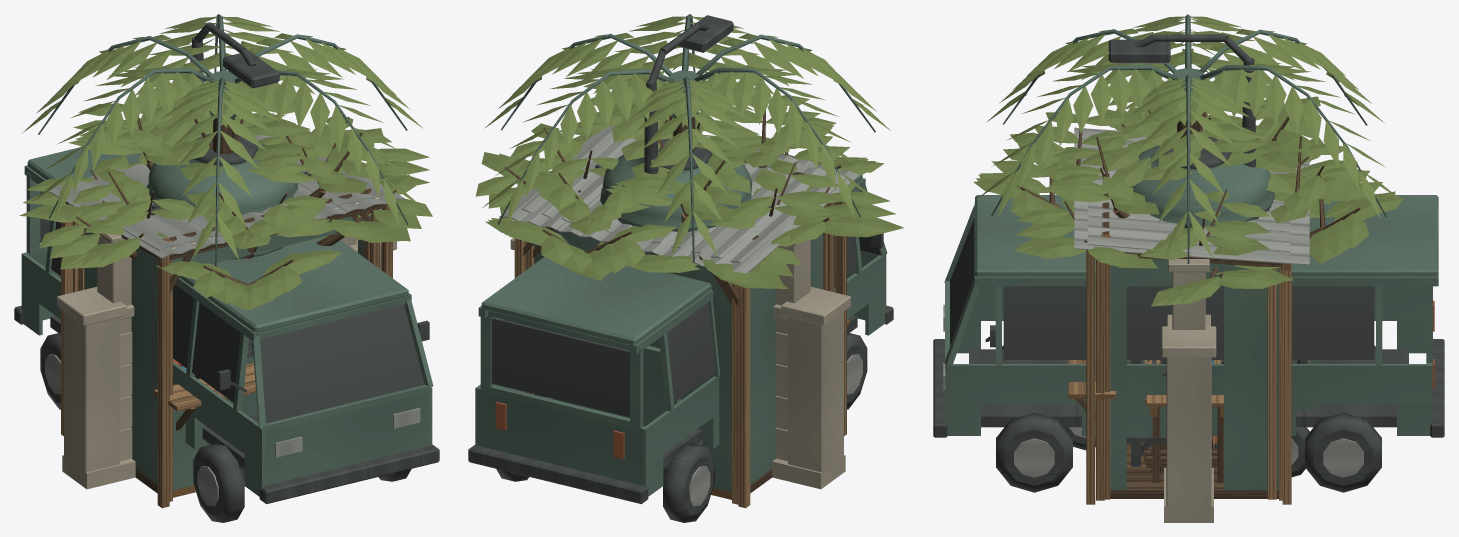
Rendered from yoruba-southwest.glb.
3 renders of one model, left to right at view 1: azimuth 30°, elevation 25°; view 2: azimuth 150°, elevation 25°; view 3: azimuth 270°, elevation 25°, orthographic.
Parts seen in each view (by area): view 1: minibus, palm, broadleaf-tree, acacia, kiosk, wall, canopy, water-tank, market-stall, gate, street-lamp; view 2: minibus, palm, broadleaf-tree, kiosk, acacia, wall, market-stall, canopy, water-tank, street-lamp, gate, three-wheeler; view 3: minibus, palm, kiosk, broadleaf-tree, acacia, market-stall, wall, water-tank, canopy, street-lamp, gate, three-wheeler.
Part boxes in pixels (x1,y1,x2,y2): minibus: (14,147,439,522); palm: (21,14,424,266); broadleaf-tree: (68,81,391,258); acacia: (19,108,432,309); kiosk: (49,135,405,501); wall: (57,239,396,489); canopy: (61,197,392,508); water-tank: (146,134,297,379); market-stall: (70,156,384,370); gate: (93,233,356,482); street-lamp: (190,22,279,115); minibus: (468,153,893,522); palm: (482,14,890,262); broadleaf-tree: (510,71,842,234); kiosk: (499,131,859,504); acacia: (475,109,903,288); wall: (510,238,850,489); market-stall: (521,126,846,290); canopy: (514,186,847,508); water-tank: (600,138,751,231); street-lamp: (644,15,733,174); gate: (772,240,810,482); three-wheeler: (558,335,703,445); minibus: (933,195,1444,492); palm: (976,14,1400,263); kiosk: (1068,127,1309,500); broadleaf-tree: (1010,85,1367,259); acacia: (973,107,1404,306); market-stall: (1088,128,1289,499); wall: (1161,314,1216,522); water-tank: (1131,137,1274,466); canopy: (1086,250,1291,504); street-lamp: (1108,34,1255,167); gate: (1168,259,1209,329); three-wheeler: (1064,360,1318,477).
Bounding box in the file's own units: 3.93 × 3.83 × 4.3.
Materials: 1 (1 with a texture image).
